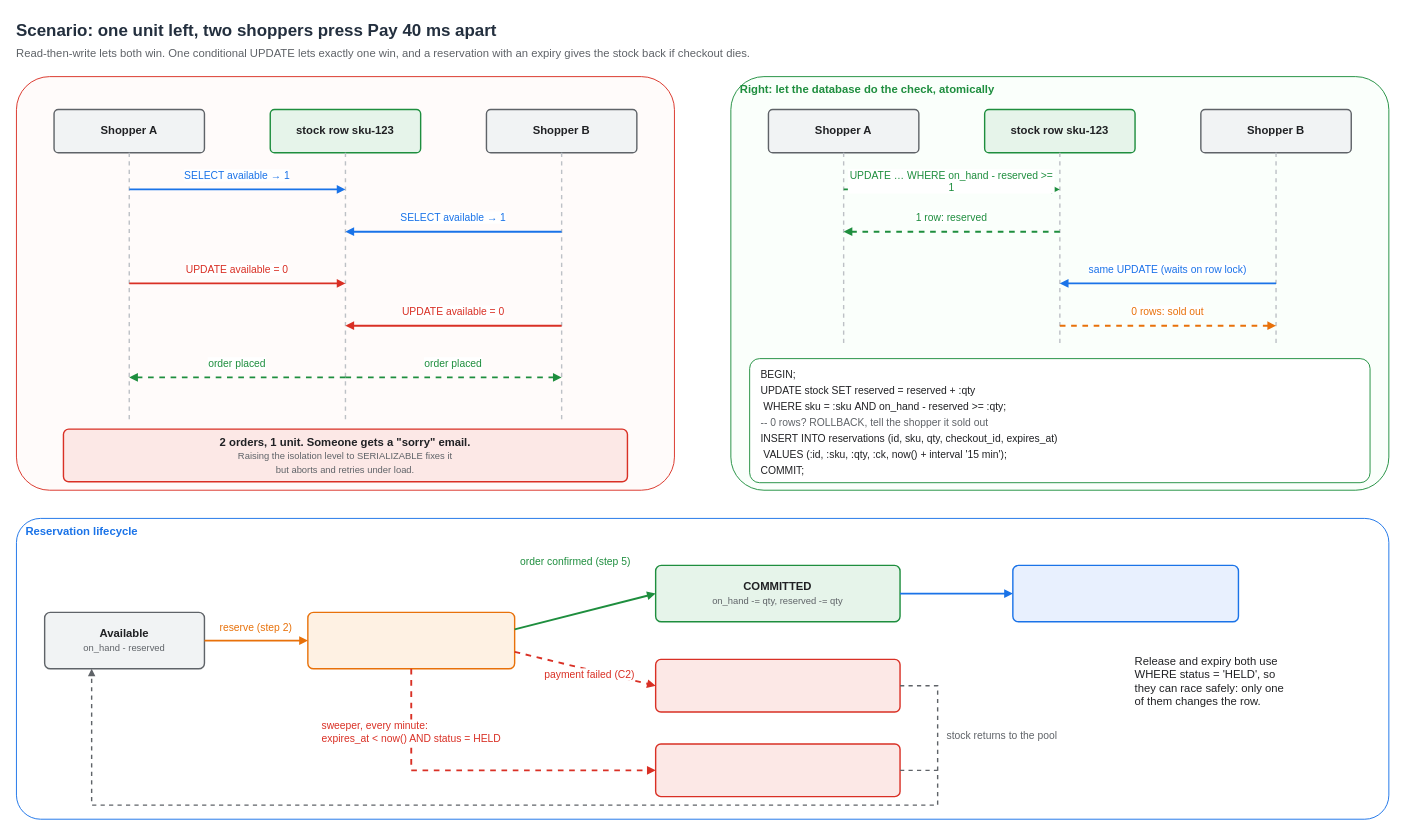
The diagram is 1405 pixels wide and 836 high, and some of its shapes have lost their labels. Each missing label, with the box of its shape:
EXPIRED reserved -= qty: (655, 743, 900, 797)
HELD expires_at = now() + 15 min: (307, 611, 515, 669)
RELEASED reserved -= qty: (655, 658, 900, 712)
SHIPPED pick, pack, capture payment: (1012, 564, 1239, 622)
Wrong: read, check in code, then write: (16, 76, 674, 490)
